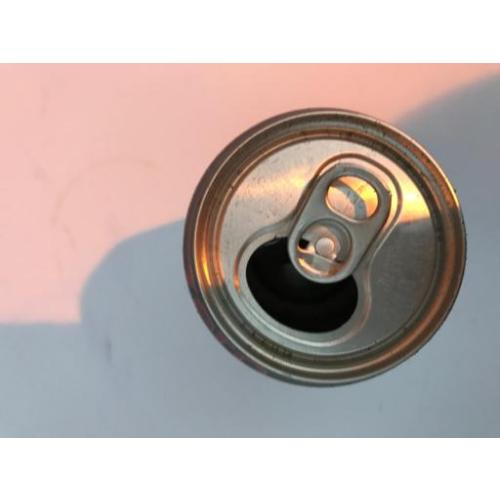metal: (180, 109, 466, 386)
